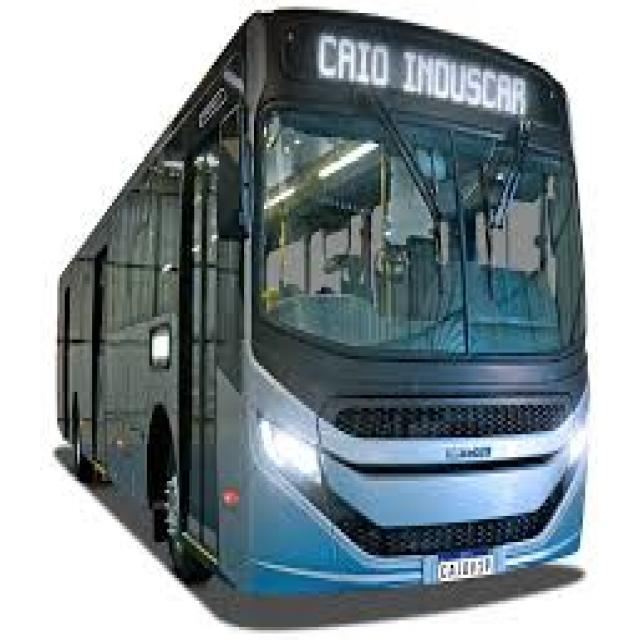bus: (22, 9, 625, 636)
